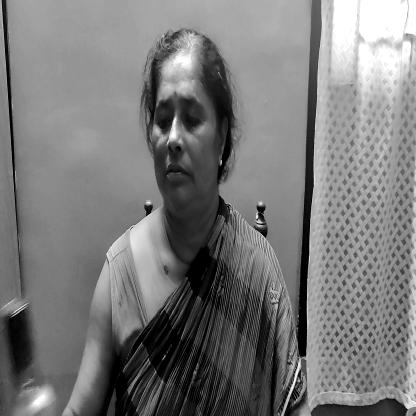Distracted: (143, 36, 231, 226)
